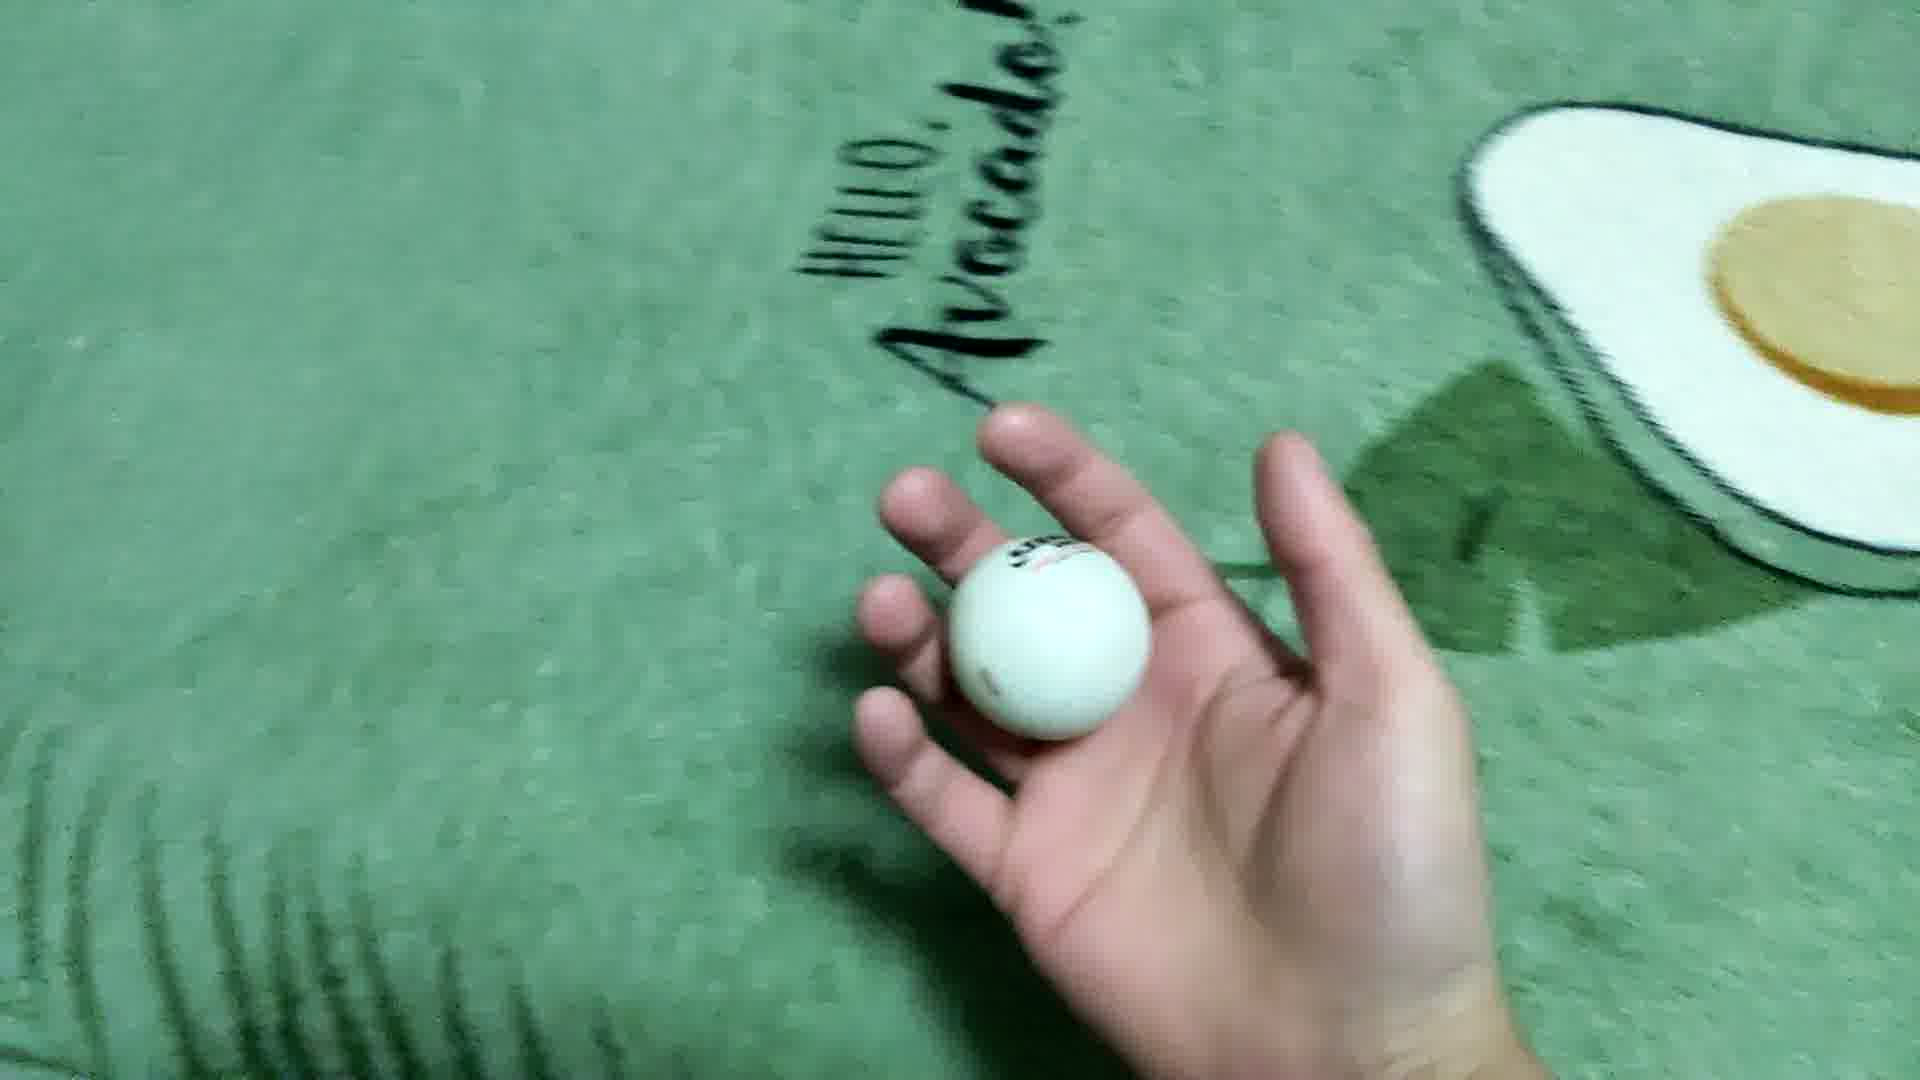Ball: (945, 531, 1154, 745)
